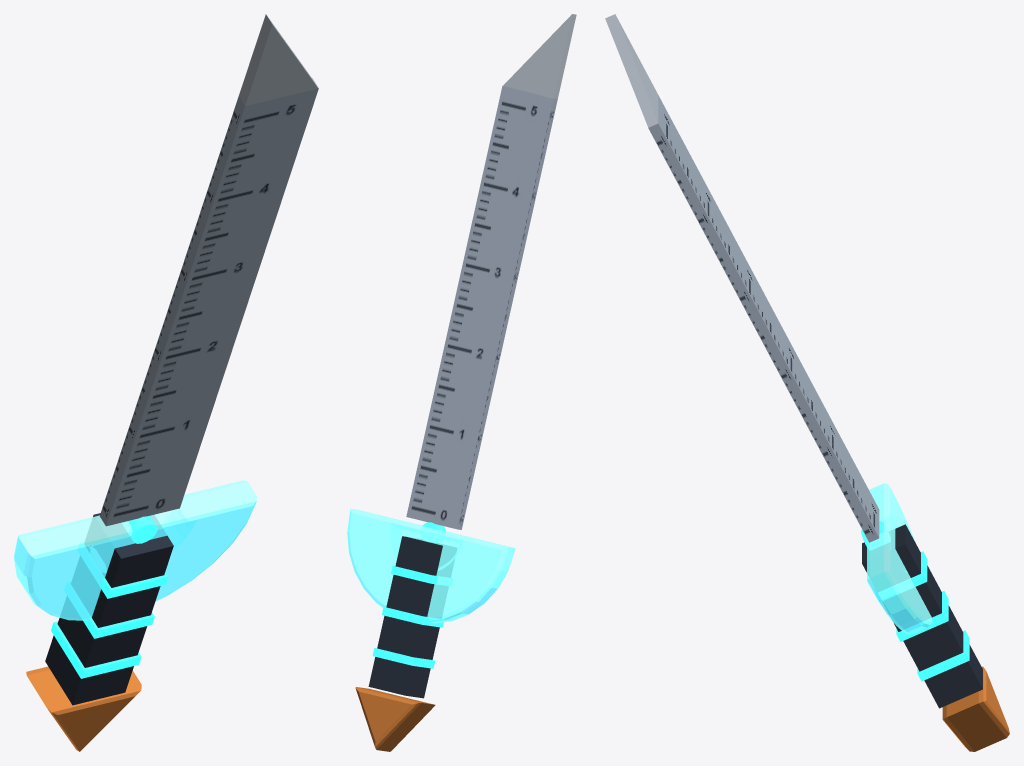
File: hand_eqsu3.glb
The picture shows the model from 3 angles, left to right: view 1: azimuth 30°, elevation 25°; view 2: azimuth 150°, elevation 25°; view 3: azimuth 270°, elevation 25°; orthographic projection. The views are drawn at different scales.
Size of the model in its own units: 1.27 by 4.83 by 2.45.
Materials: 7 (1 with a texture image).
